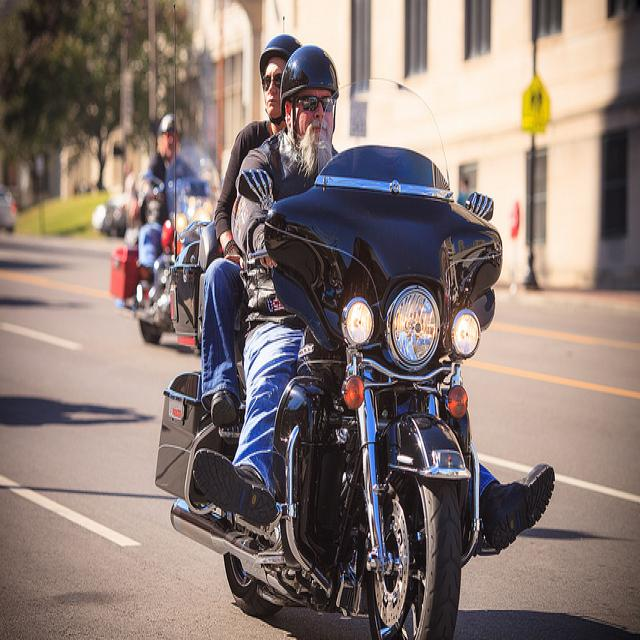motor: (154, 142, 507, 631), (109, 138, 222, 346), (172, 221, 225, 346)
